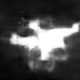plane: (6, 16, 80, 64)
